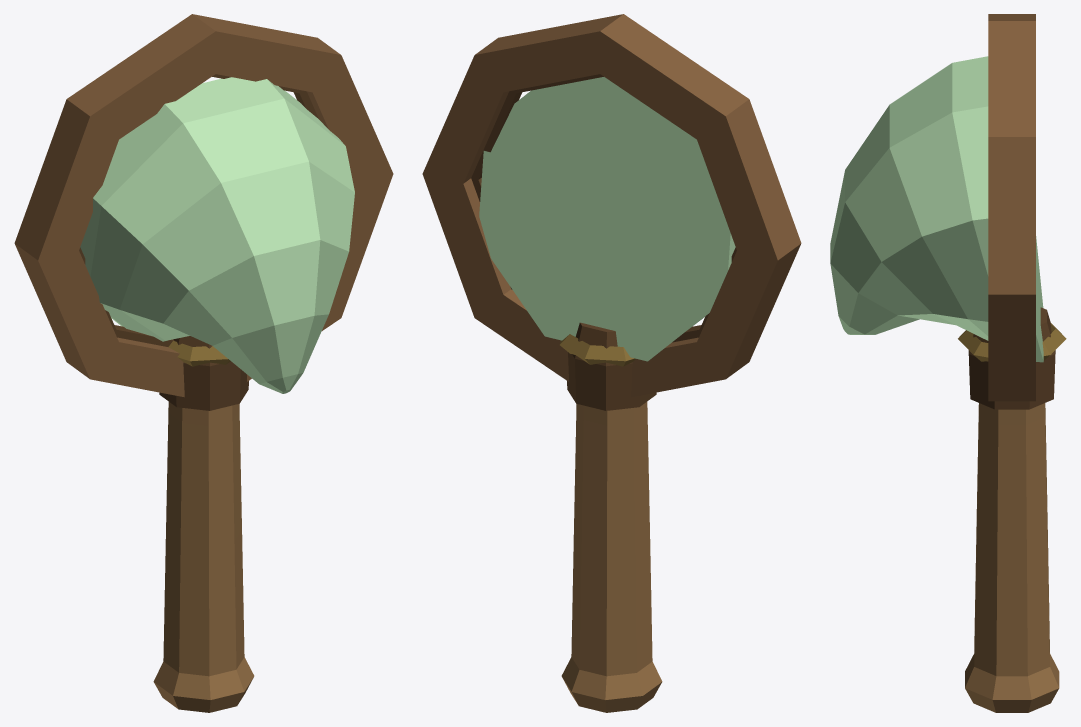
The model's file is Hunter_Net.glb.
3 renders of one model, left to right at view 1: azimuth 30°, elevation 25°; view 2: azimuth 150°, elevation 25°; view 3: azimuth 270°, elevation 25°, orthographic.
Visible parts, largest first — view 1: Hunter_Net; view 2: Hunter_Net; view 3: Hunter_Net.
Boxes of the visible parts, <box> form: Hunter_Net: <box>14,14,393,712</box>; Hunter_Net: <box>422,14,801,712</box>; Hunter_Net: <box>830,14,1066,712</box>.
Size of the model in its own units: 0.9831 by 1.8 by 0.5636.
